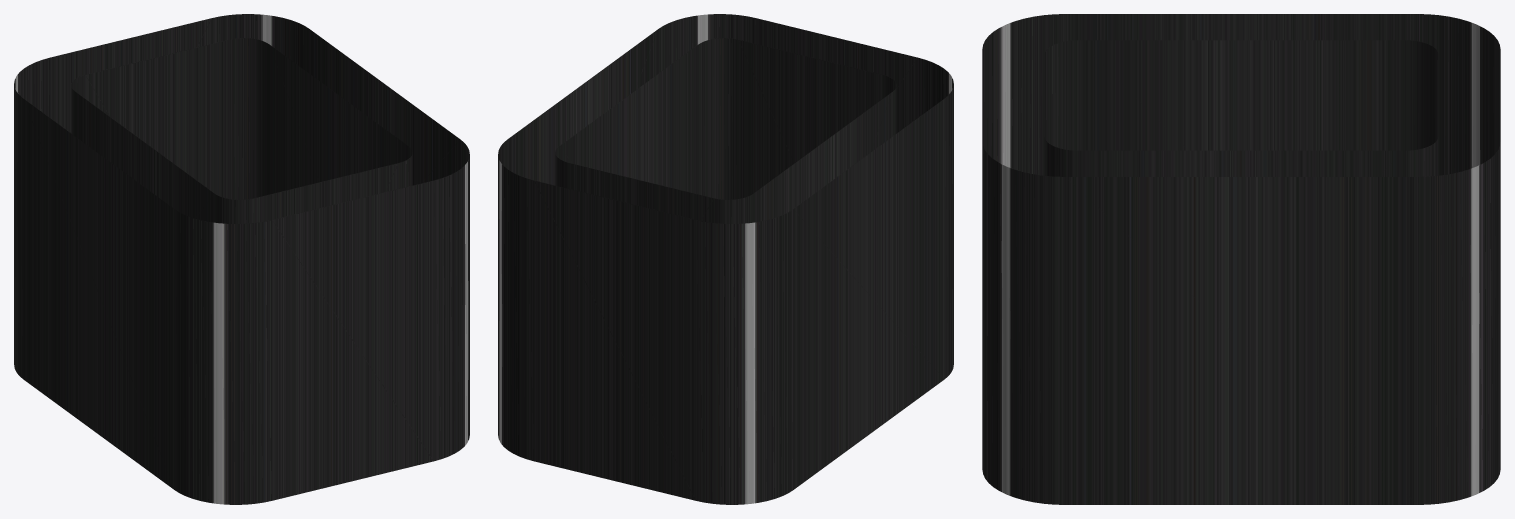
File: trackA_colider.FBX
3 views of the same model, side by side, from view 1: azimuth 30°, elevation 25°; view 2: azimuth 150°, elevation 25°; view 3: azimuth 270°, elevation 25° (orthographic). The views are drawn at different scales.
Visible parts, largest first — view 1: trackA_colisao; view 2: trackA_colisao; view 3: trackA_colisao.
Boxes of the visible parts, <box> form: trackA_colisao: <box>14,14,469,504</box>; trackA_colisao: <box>498,14,953,504</box>; trackA_colisao: <box>982,14,1500,504</box>.
Bounding box in the file's own units: 236 × 222 × 318.
